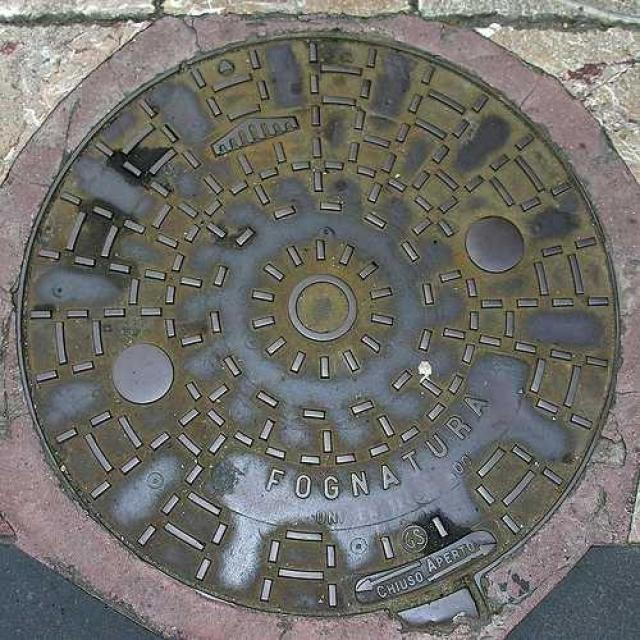manhole: (15, 35, 619, 622)
